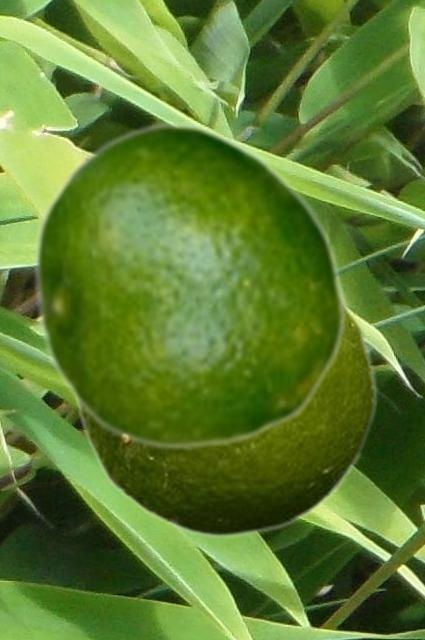calamansi: (31, 120, 347, 450), (73, 301, 377, 538)
